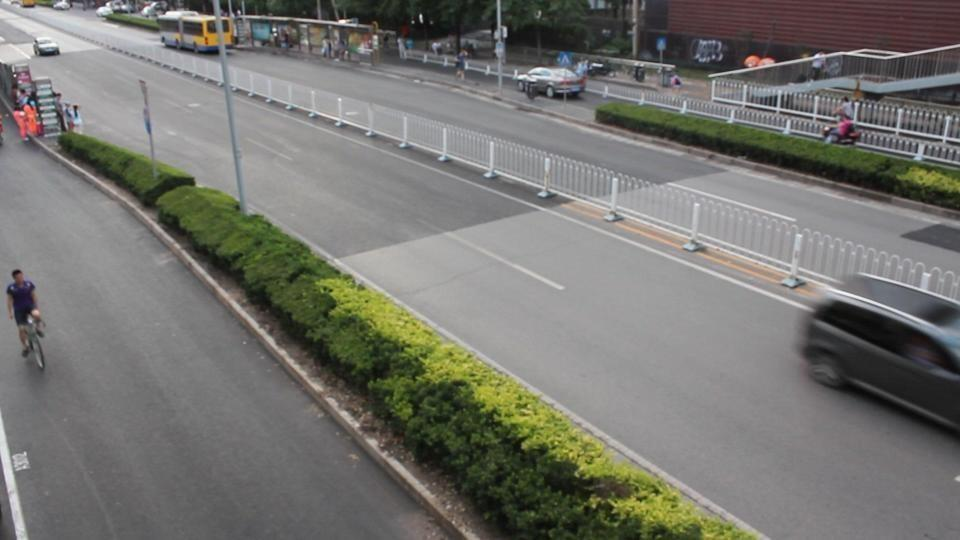car: (796, 272, 958, 433), (521, 66, 588, 100), (96, 0, 134, 17), (33, 37, 61, 57), (53, 0, 71, 11), (18, 0, 36, 8)
